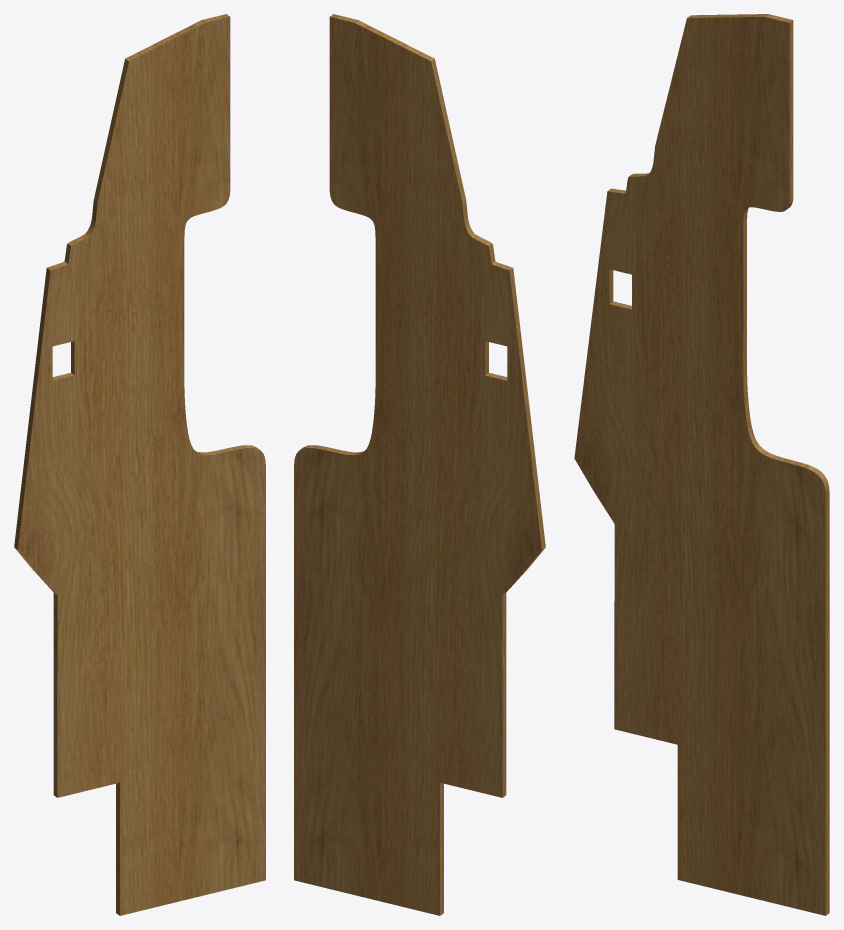
File: partition-wall-two.glb
3 renders of one model, left to right at view 1: azimuth 30°, elevation 25°; view 2: azimuth 150°, elevation 25°; view 3: azimuth 330°, elevation 25°, orthographic.
Bounding box in the file's own units: 0.5645 × 1.9 × 0.0151.
1 material, 1 textured.
